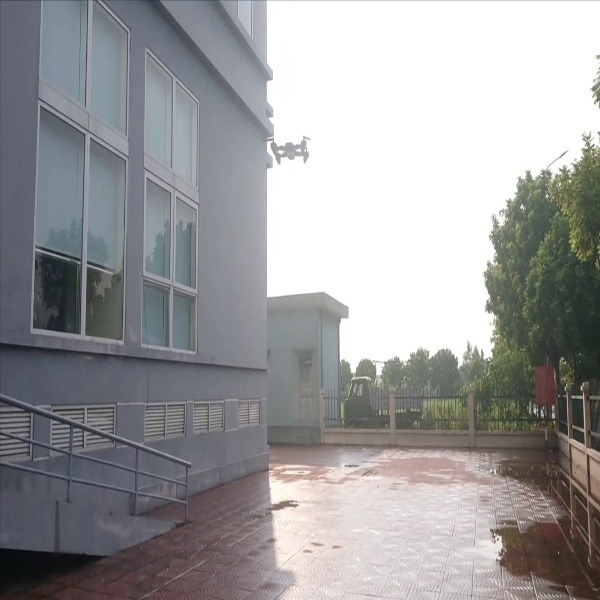drone: (264, 130, 316, 170)
